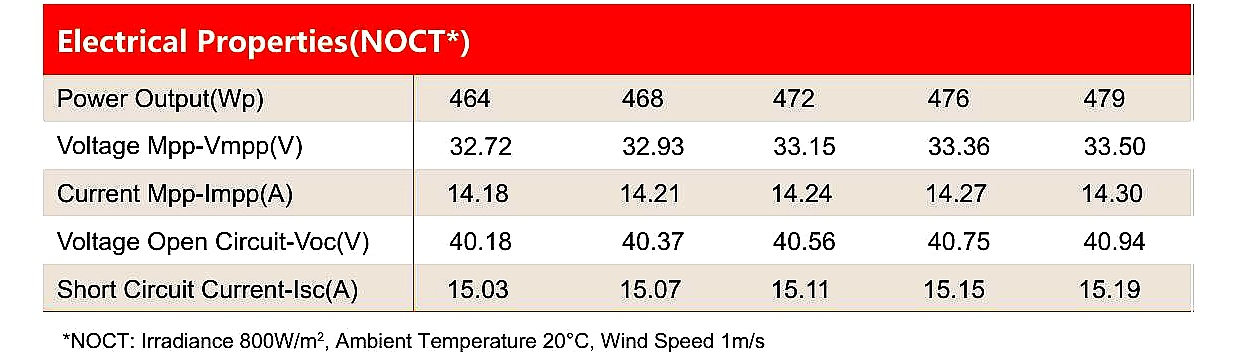table: (32, 2, 1209, 320)
table column: (41, 5, 415, 312), (415, 4, 576, 311), (1036, 6, 1190, 312), (577, 7, 730, 312), (882, 7, 1035, 311), (730, 6, 881, 309)
table name: (41, 4, 1191, 72)
table row: (38, 6, 1196, 71), (36, 267, 1198, 313), (39, 170, 1200, 216), (38, 219, 1200, 263), (38, 124, 1199, 168), (39, 78, 1194, 119)
table row header: (41, 5, 416, 312)
table spanning cell: (41, 7, 1189, 70)
